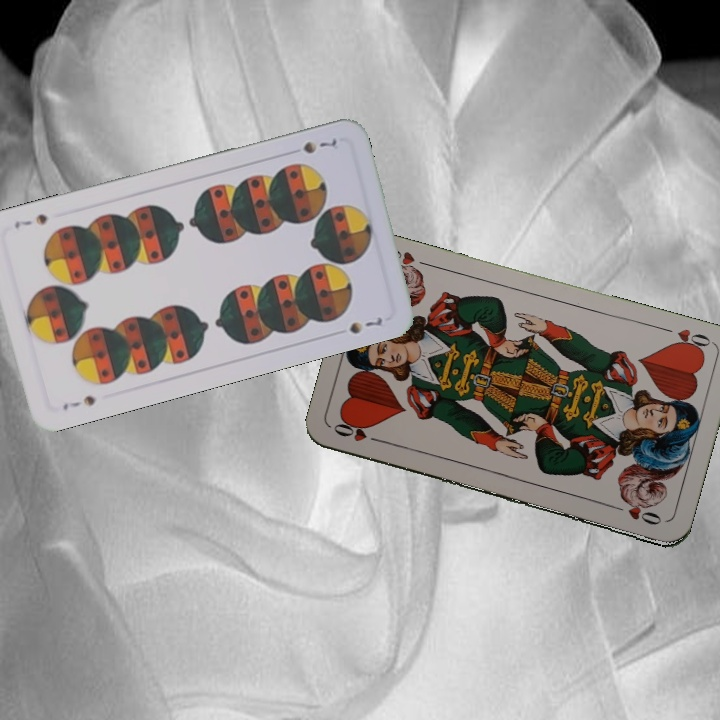HO: (657, 323, 715, 356), (329, 419, 387, 446)
S7: (299, 135, 341, 157), (58, 391, 99, 413)
